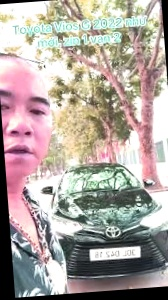Bien-so: (71, 262, 123, 277)
